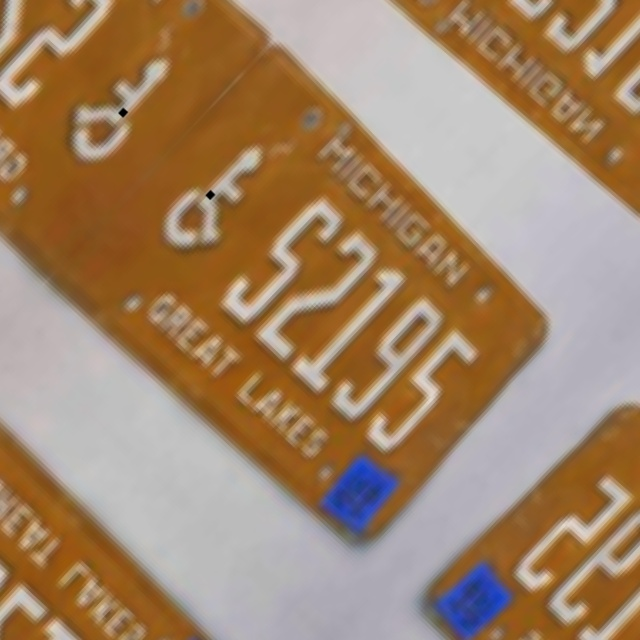ISA: (51, 35, 186, 174), (150, 128, 285, 267)
